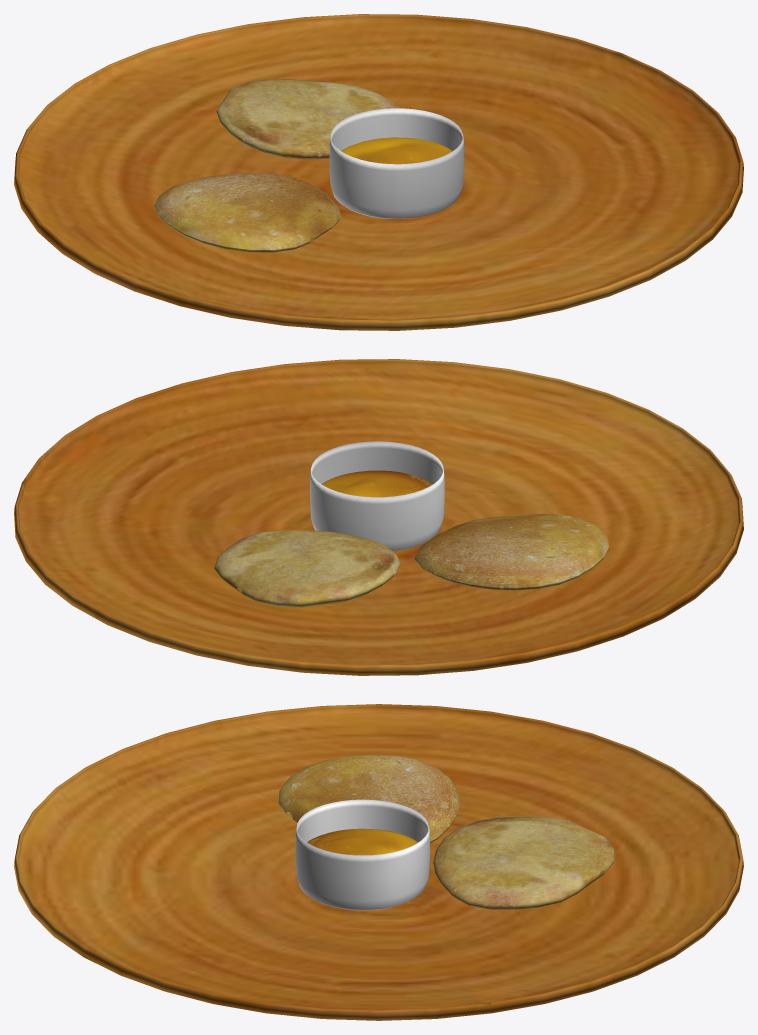
Rendered from puri.fbx.
3 renders of one model, top to bottom at view 1: azimuth 30°, elevation 25°; view 2: azimuth 150°, elevation 25°; view 3: azimuth 270°, elevation 25°, orthographic.
Visible parts, largest first — view 1: sketchfab:aamrasDish, sketchfab:vadeaamras, sketchfab:aamrasvatti, sketchfab:aamrasvade2, sketchfab:aamrasvattiaamras; view 2: sketchfab:aamrasDish, sketchfab:vadeaamras, sketchfab:aamrasvade2, sketchfab:aamrasvatti, sketchfab:aamrasvattiaamras; view 3: sketchfab:aamrasDish, sketchfab:aamrasvade2, sketchfab:aamrasvatti, sketchfab:vadeaamras, sketchfab:aamrasvattiaamras.
Boxes of the visible parts, x1=… form: sketchfab:aamrasDish: x1=14, y1=14, x2=743, y2=330; sketchfab:vadeaamras: x1=154, y1=173, x2=340, y2=252; sketchfab:aamrasvatti: x1=329, y1=108, x2=464, y2=218; sketchfab:aamrasvade2: x1=216, y1=79, x2=399, y2=159; sketchfab:aamrasvattiaamras: x1=341, y1=137, x2=452, y2=164; sketchfab:aamrasDish: x1=14, y1=359, x2=743, y2=675; sketchfab:vadeaamras: x1=414, y1=514, x2=609, y2=590; sketchfab:aamrasvade2: x1=214, y1=530, x2=400, y2=607; sketchfab:aamrasvatti: x1=310, y1=441, x2=444, y2=551; sketchfab:aamrasvattiaamras: x1=321, y1=470, x2=432, y2=497; sketchfab:aamrasDish: x1=14, y1=704, x2=743, y2=1020; sketchfab:aamrasvade2: x1=433, y1=816, x2=614, y2=909; sketchfab:aamrasvatti: x1=295, y1=799, x2=430, y2=910; sketchfab:vadeaamras: x1=278, y1=755, x2=459, y2=842; sketchfab:aamrasvattiaamras: x1=307, y1=828, x2=418, y2=855.
Size of the model in its own units: 65.2 by 6.29 by 65.2.
Materials: 4 (4 with a texture image).
